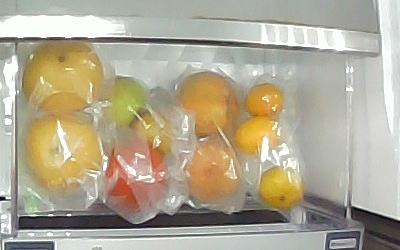peach_vinyl: (175, 72, 240, 132), (184, 139, 241, 207)
pear_vinyl: (23, 113, 102, 187), (23, 40, 102, 113)
tangerine_vinyl: (256, 163, 306, 208), (235, 115, 283, 155), (244, 84, 285, 117)
tomato_vinyl: (104, 144, 171, 217), (105, 75, 152, 126), (134, 108, 168, 154)
